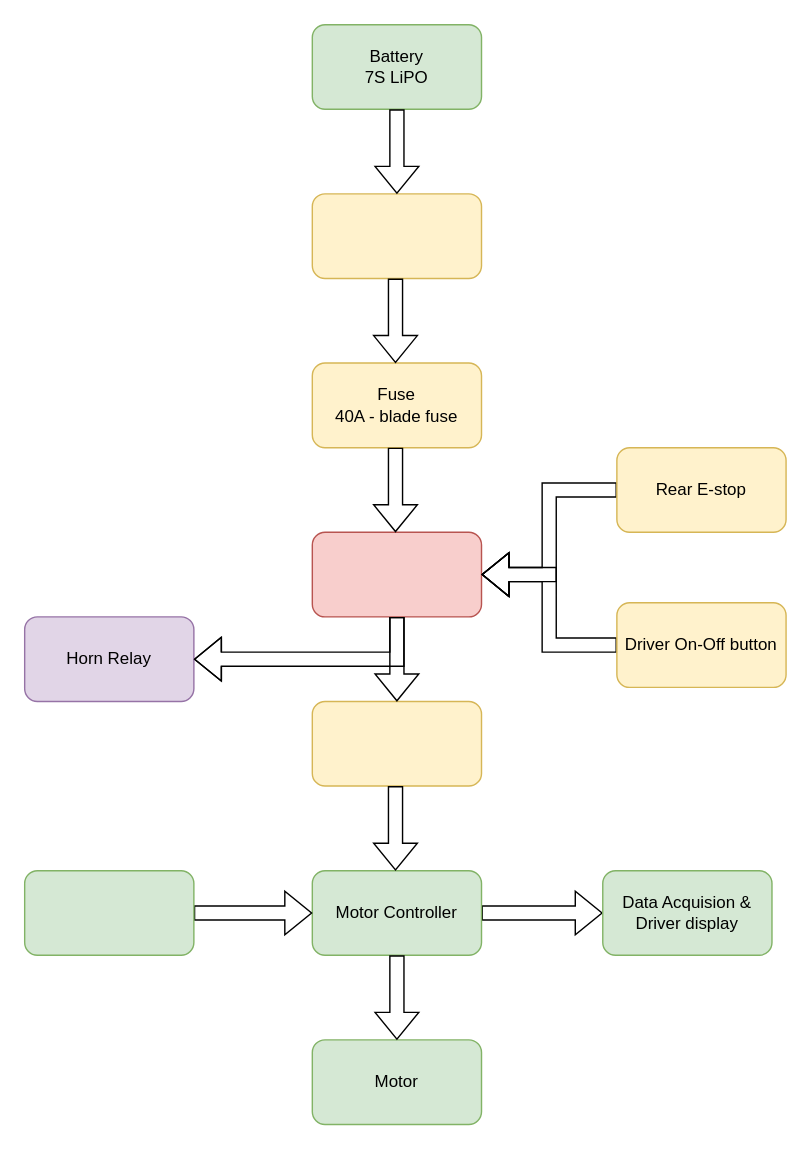
Image size: 811x1149. Some labels were removed from this diagram. The box of each missing label's shape, as (x1, y1, x2, y2) in pixels:
BMS 40A digital limit: (311, 192, 482, 278)
E-stop Relay: (311, 531, 482, 617)
Joulemeter: (311, 700, 482, 786)
Throttle: (23, 869, 194, 955)
